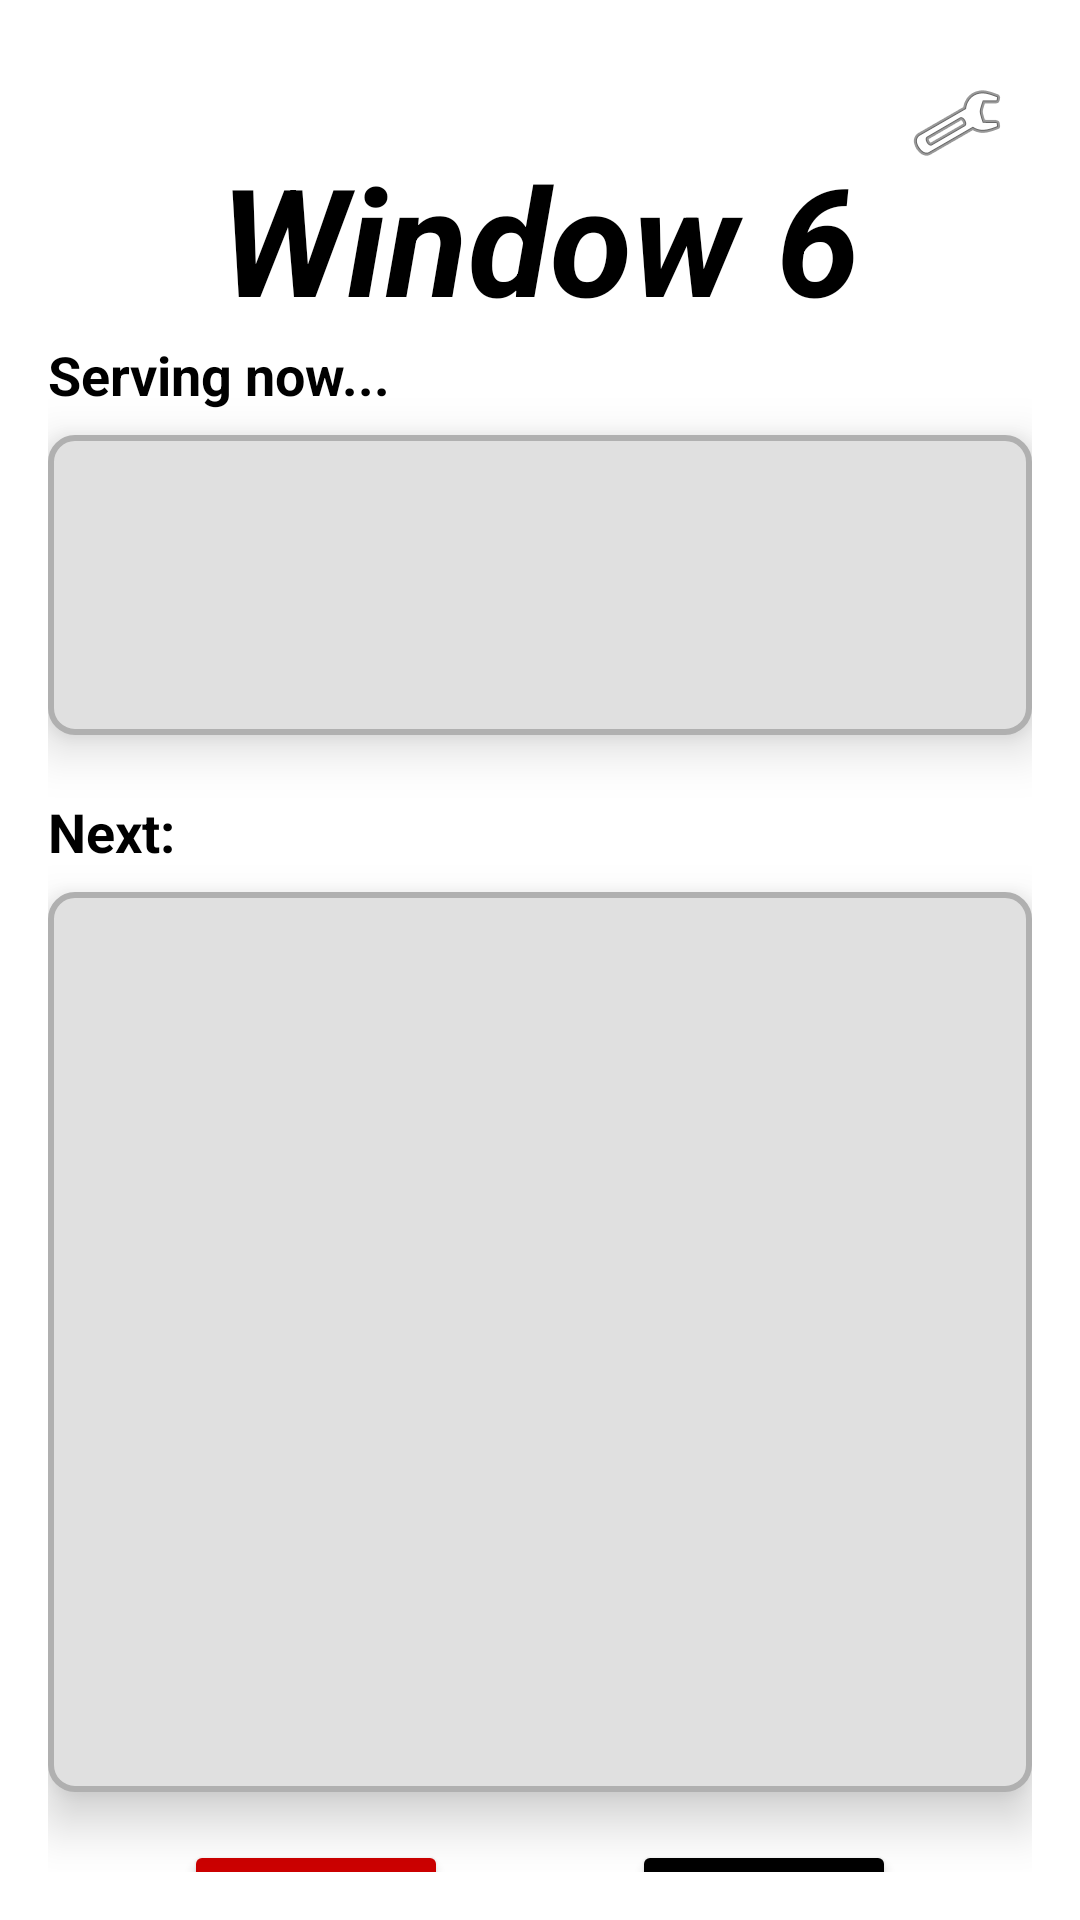

Locate icon controls on the screen. Image size 1080px×1920px, boxes as (x1, y1, x2, y2).
Settings: (914, 90, 1000, 156)
